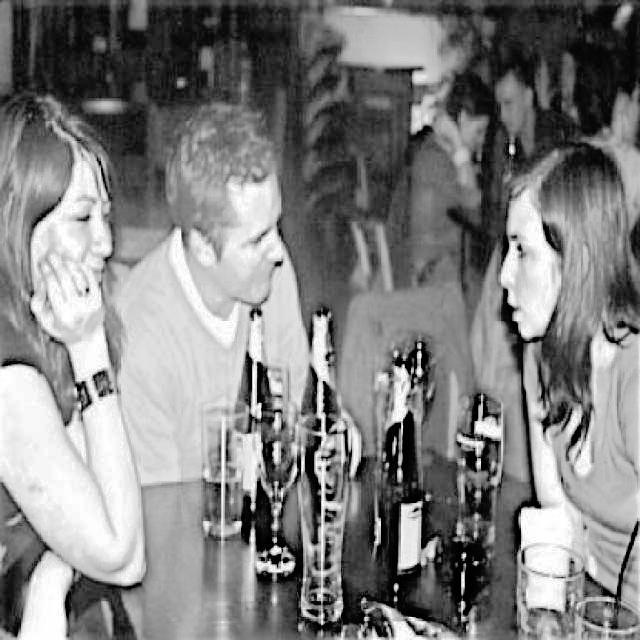Person: (110, 95, 321, 492), (0, 72, 149, 597), (497, 143, 640, 554)
